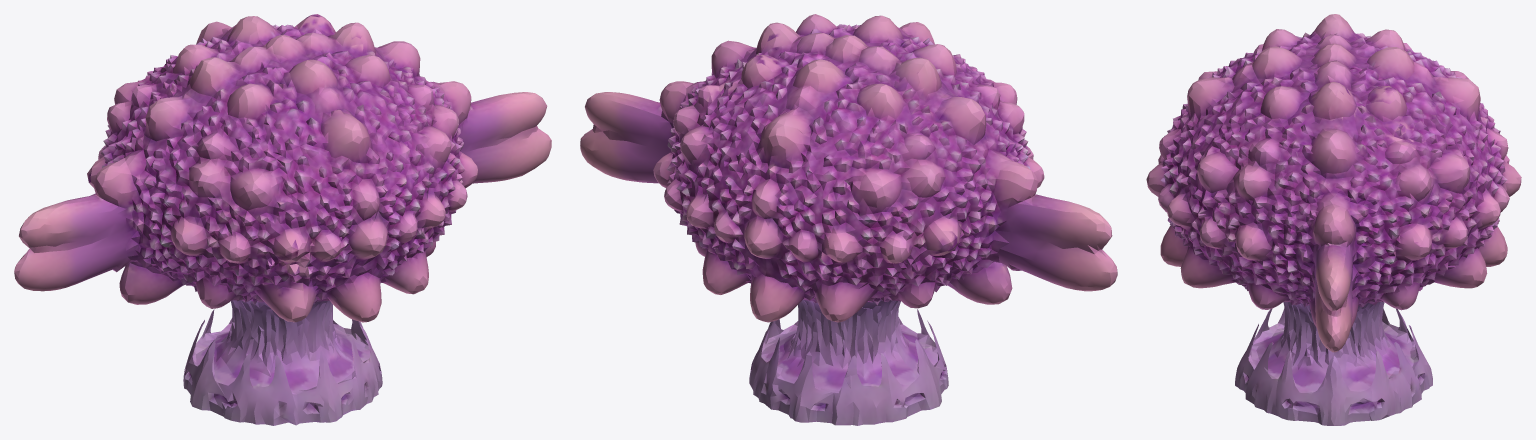
Rendered from kraken_weapon_secondary.glb.
The picture shows the model from 3 angles, left to right: view 1: azimuth 30°, elevation 25°; view 2: azimuth 150°, elevation 25°; view 3: azimuth 270°, elevation 25°; orthographic projection. The views are drawn at different scales.
Parts seen in each view (by area): view 1: kraken_weapon_secondary; view 2: kraken_weapon_secondary; view 3: kraken_weapon_secondary.
Boxes of the visible parts, x1=… form: kraken_weapon_secondary: x1=14, y1=14, x2=551, y2=425; kraken_weapon_secondary: x1=580, y1=14, x2=1117, y2=425; kraken_weapon_secondary: x1=1146, y1=14, x2=1521, y2=425.
Size of the model in its own units: 1.89 by 1.17 by 1.18.
Materials: 1 (1 with a texture image).
